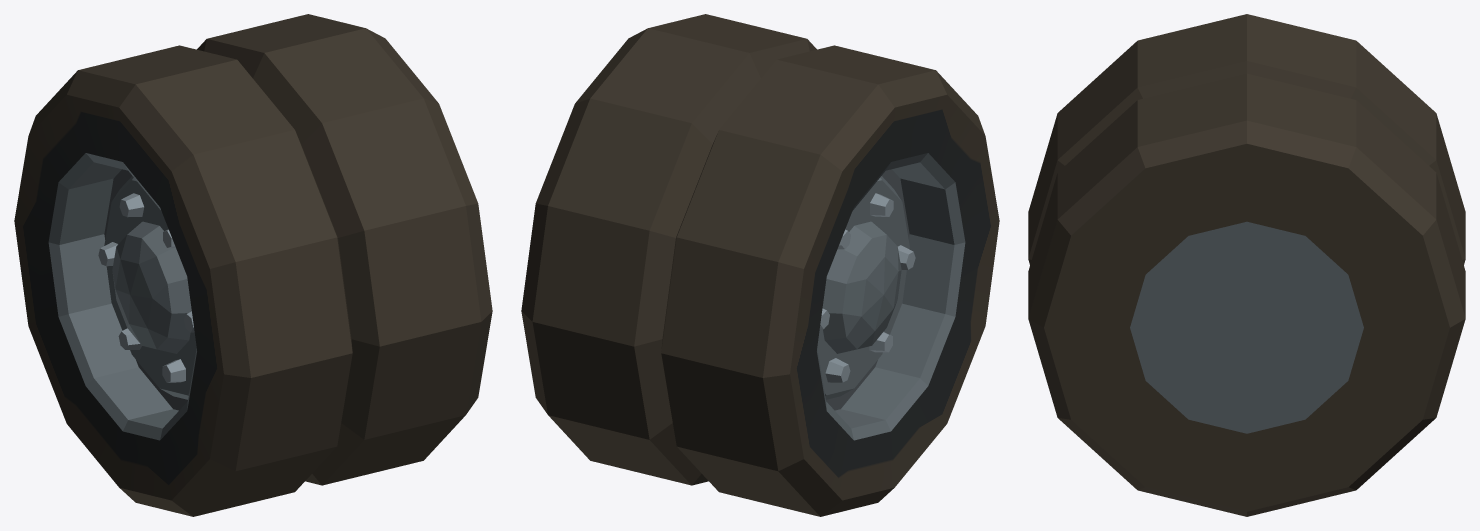
File: SM_Veh_BigRig_Wheel_rr_02.obj
3 views of the same model, side by side, from view 1: azimuth 30°, elevation 25°; view 2: azimuth 150°, elevation 25°; view 3: azimuth 270°, elevation 25° (orthographic). The views are drawn at different scales.
Parts seen in each view (by area): view 1: SM_Veh_BigRig_Wheel_rr_02_0; view 2: SM_Veh_BigRig_Wheel_rr_02_0; view 3: SM_Veh_BigRig_Wheel_rr_02_0.
Boxes of the visible parts, x1,y1,x2,y2 form: SM_Veh_BigRig_Wheel_rr_02_0: (14,14,492,516); SM_Veh_BigRig_Wheel_rr_02_0: (521,14,999,516); SM_Veh_BigRig_Wheel_rr_02_0: (1028,14,1465,516).
Size of the model in its own units: 0.7407 by 1.11 by 1.11.
1 material, 1 textured.
